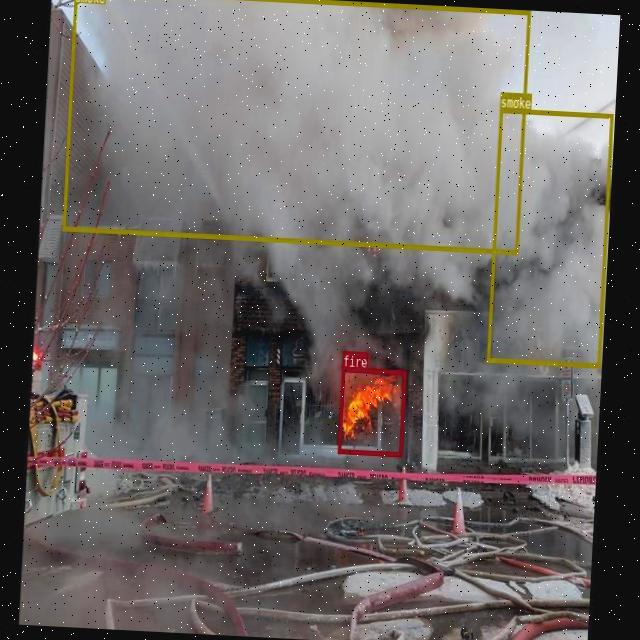fire: (338, 366, 407, 456)
smoke: (62, 0, 530, 253), (487, 107, 612, 368)
